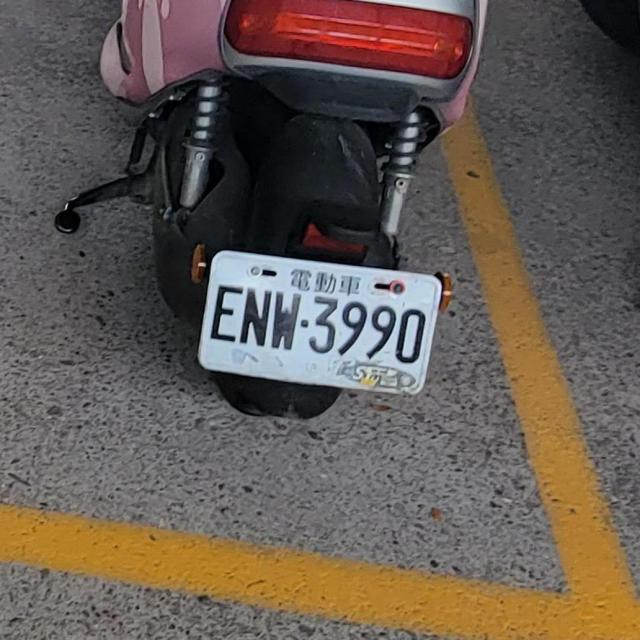W: (190, 242, 446, 401)
